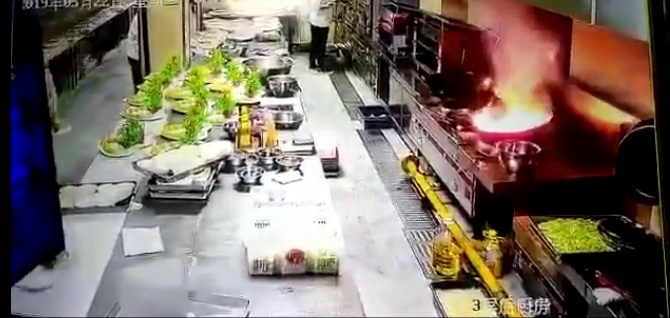fire: (470, 36, 552, 135)
